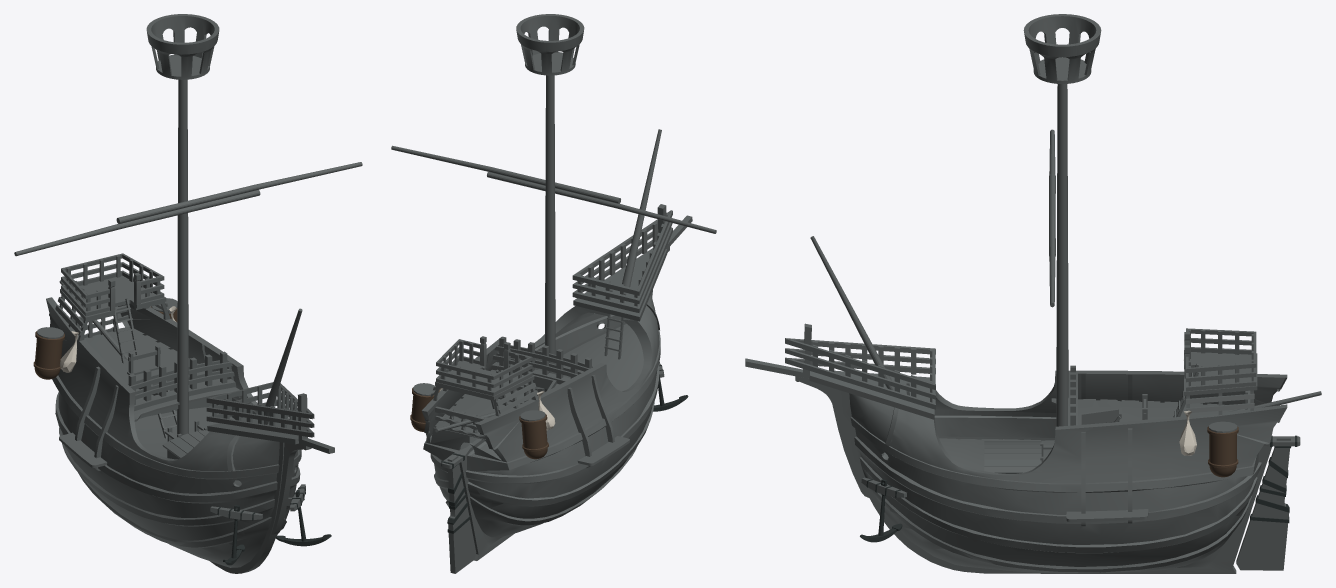
File: 16012_Ship.obj
The picture shows the model from 3 angles, left to right: view 1: azimuth 30°, elevation 25°; view 2: azimuth 150°, elevation 25°; view 3: azimuth 270°, elevation 25°; orthographic projection. The views are drawn at different scales.
Parts seen in each view (by area): view 1: CSCASCO, CSBARAN, CSCUBIER, CSMASTIL, CSCOFA, CSVERGA, CSCUBIE2, CSBAUPRE, CSCESTO, CSCGAVIL, CSPALOT, CSLATCAS (+5 smaller); view 2: CSCASCO, CSBARAN, CSCUBIER, CSCOFA, CSMASTIL, CSVERGA, CSTIMON_1, CSBAUPRE, CSCUBIE2, CSCESTO, CSPALOT, CSBARAN4 (+3 smaller); view 3: CSCASCO, CSBARAN, CSCUBIER, CSMASTIL, CSCOFA, CSTIMON_1, CSBAUPRE, CSCUBIE2, CSCESTO, CSVERGA, CSPALOT, CSTIMON (+1 smaller).
Part boxes in pixels (bbox=[...]): CSCASCO: bbox=[46, 297, 311, 573]; CSBARAN: bbox=[61, 253, 314, 437]; CSCUBIER: bbox=[84, 326, 241, 485]; CSMASTIL: bbox=[177, 79, 188, 435]; CSCOFA: bbox=[146, 14, 219, 79]; CSVERGA: bbox=[14, 162, 362, 256]; CSCUBIE2: bbox=[55, 275, 170, 340]; CSBAUPRE: bbox=[207, 393, 334, 453]; CSCESTO: bbox=[33, 306, 177, 379]; CSCGAVIL: bbox=[127, 345, 207, 441]; CSPALOT: bbox=[264, 308, 302, 424]; CSLATCAS: bbox=[59, 432, 107, 467]; CSCASCO: bbox=[421, 247, 669, 560]; CSBARAN: bbox=[436, 210, 672, 395]; CSCUBIER: bbox=[434, 324, 643, 439]; CSCOFA: bbox=[516, 14, 584, 75]; CSMASTIL: bbox=[544, 75, 555, 391]; CSVERGA: bbox=[391, 145, 716, 233]; CSTIMON_1: bbox=[441, 438, 484, 573]; CSBAUPRE: bbox=[573, 204, 692, 321]; CSCUBIE2: bbox=[430, 360, 538, 416]; CSCESTO: bbox=[410, 388, 548, 459]; CSPALOT: bbox=[622, 129, 661, 287]; CSBARAN4: bbox=[435, 406, 488, 439]; CSCASCO: bbox=[795, 370, 1287, 573]; CSBARAN: bbox=[785, 328, 1256, 425]; CSCUBIER: bbox=[884, 398, 1236, 473]; CSMASTIL: bbox=[1056, 84, 1068, 426]; CSCOFA: bbox=[1023, 14, 1101, 83]; CSTIMON_1: bbox=[1236, 436, 1300, 570]; CSBAUPRE: bbox=[745, 323, 934, 419]; CSCUBIE2: bbox=[1184, 350, 1257, 418]; CSCESTO: bbox=[1207, 426, 1238, 477]; CSVERGA: bbox=[1049, 129, 1055, 307]; CSPALOT: bbox=[810, 236, 894, 390]; CSTIMON: bbox=[1250, 435, 1297, 522].
Bounding box in the file's own units: 5924 × 8334 × 8040.
